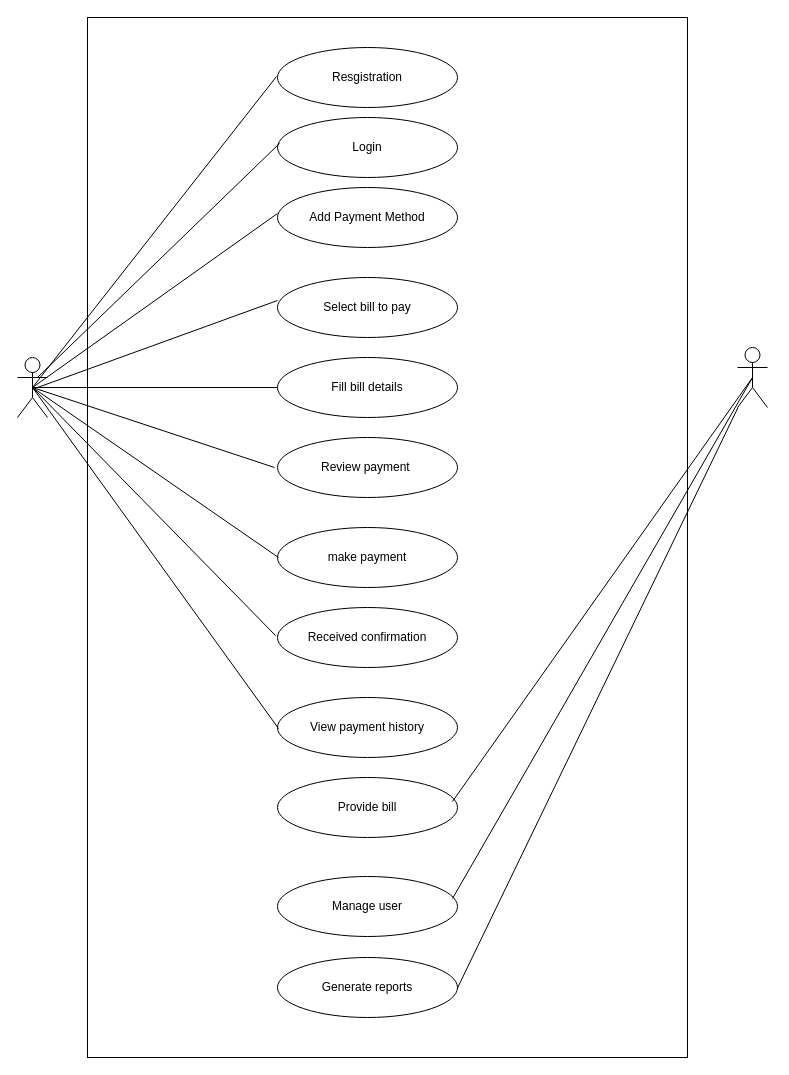
This 789x1075 diagram has some shape labels left out. Here are the shapes that lost their labels. From the top down, the box of each, then its label:
(16, 356, 48, 418): user
(736, 346, 768, 408): system
